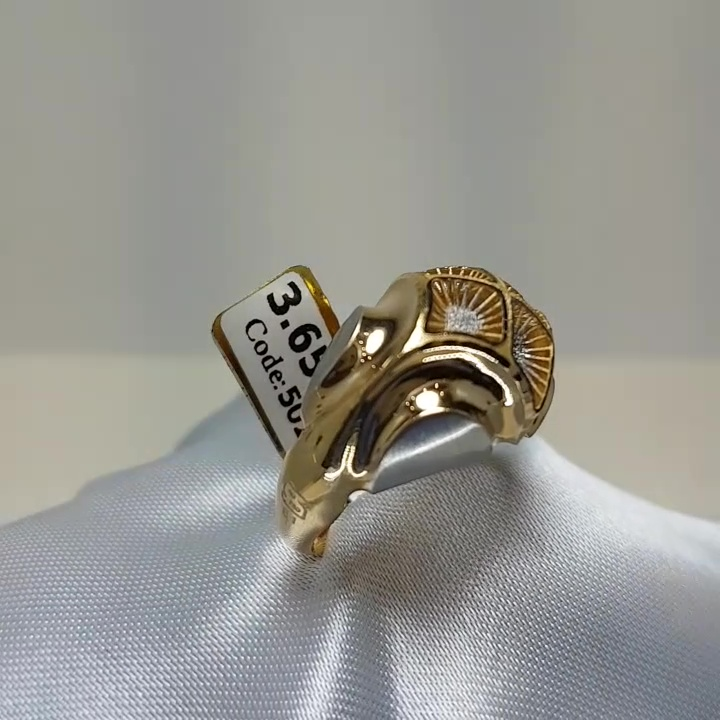Ring 2: (234, 240, 576, 572)
